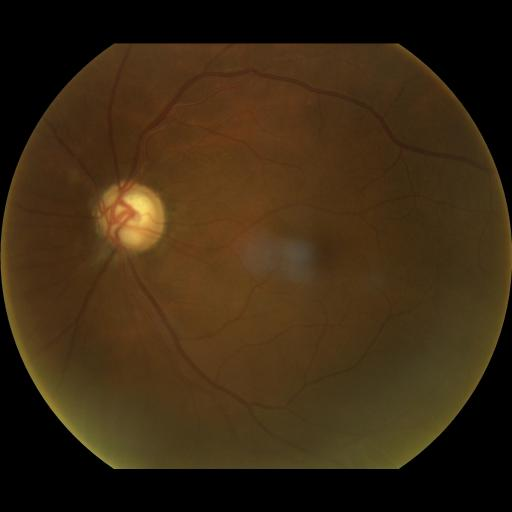Optic Cup: (117, 195, 154, 236)
Optic Disc: (96, 181, 165, 252)
